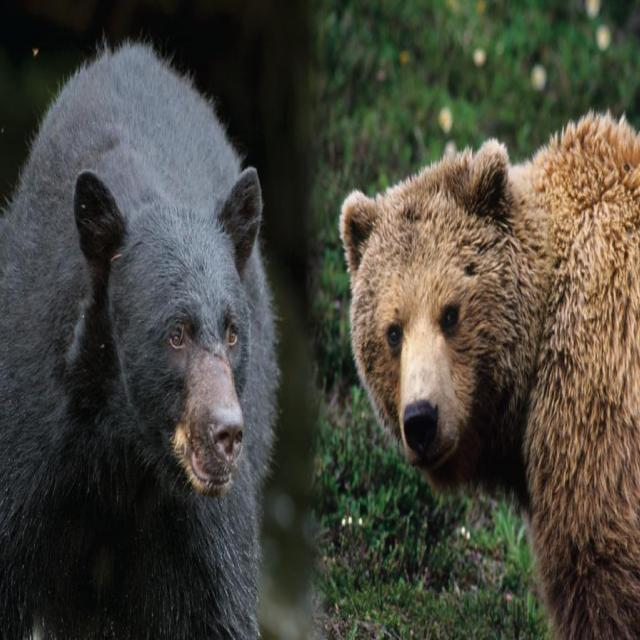Bear: (0, 44, 281, 640), (337, 115, 640, 640)
